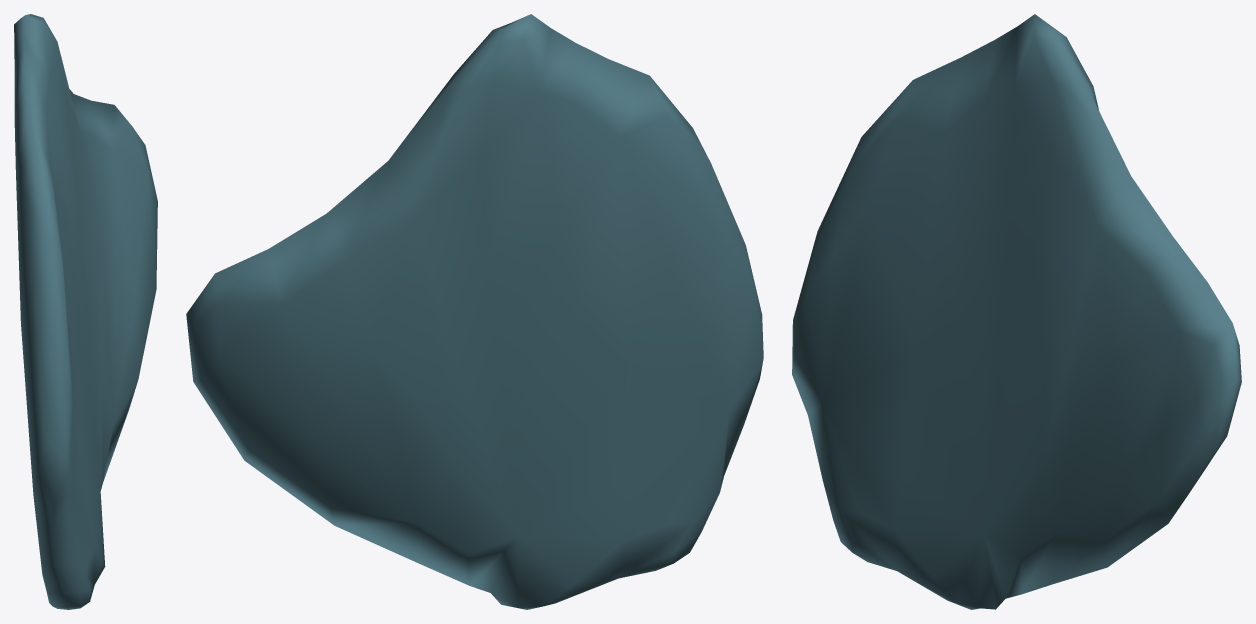
File: Proximal_phalanx_hand_1st_finger_right_001.glb
3 views of the same model, side by side, from view 1: azimuth 30°, elevation 25°; view 2: azimuth 150°, elevation 25°; view 3: azimuth 270°, elevation 25° (orthographic). The views are drawn at different scales.
Parts seen in each view (by area): view 1: Proximal_phalanx_of_hand-1st_finger.r.002_Generated_Mesh_Fro; view 2: Proximal_phalanx_of_hand-1st_finger.r.002_Generated_Mesh_Fro; view 3: Proximal_phalanx_of_hand-1st_finger.r.002_Generated_Mesh_Fro.
Boxes of the visible parts, x1=… form: Proximal_phalanx_of_hand-1st_finger.r.002_Generated_Mesh_Fro: x1=14, y1=14, x2=157, y2=609; Proximal_phalanx_of_hand-1st_finger.r.002_Generated_Mesh_Fro: x1=186, y1=14, x2=763, y2=609; Proximal_phalanx_of_hand-1st_finger.r.002_Generated_Mesh_Fro: x1=792, y1=14, x2=1241, y2=609.
Bounding box in the file's own units: 0.00377 × 0.00641 × 0.00454.
